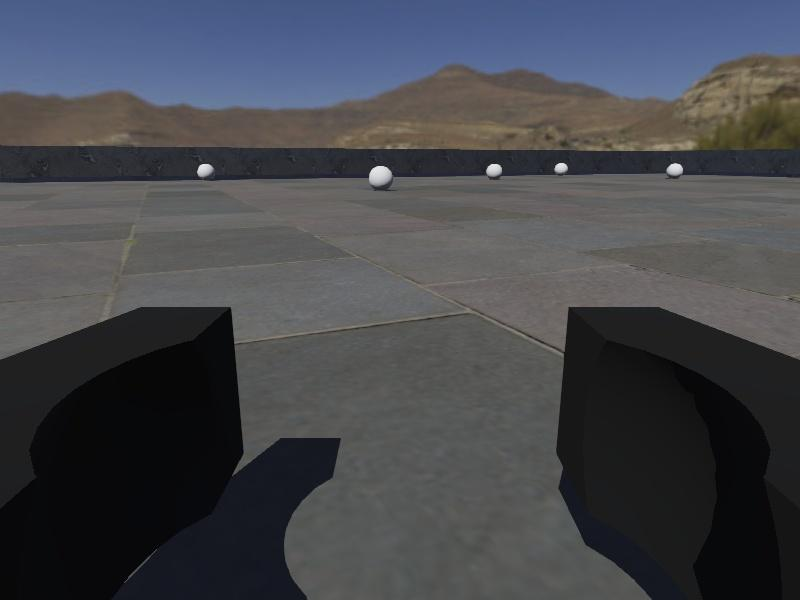white ball: (368, 165, 394, 191), (196, 162, 216, 182), (485, 162, 504, 180), (665, 161, 685, 178), (553, 161, 569, 177)
